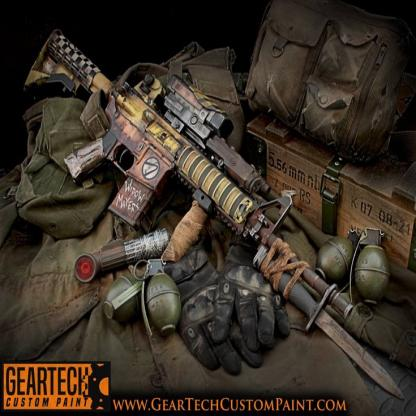Grenade: (131, 256, 181, 338), (348, 224, 390, 312), (316, 224, 356, 287), (101, 271, 143, 323)
Gun: (22, 27, 353, 320)
Knife: (254, 244, 406, 404)
